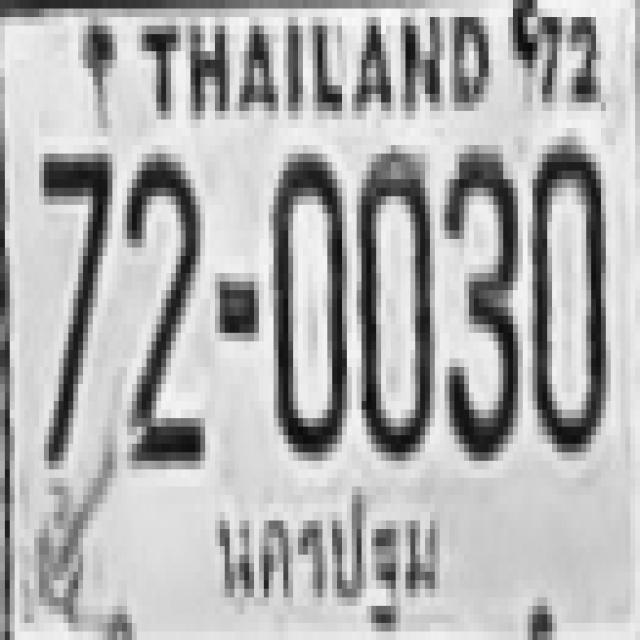0: (528, 136, 601, 444), (269, 145, 342, 452), (357, 145, 430, 452)
2: (124, 150, 198, 456)
3: (442, 145, 516, 452)
7: (39, 145, 108, 461)
NakhonPathom: (208, 492, 442, 628)
